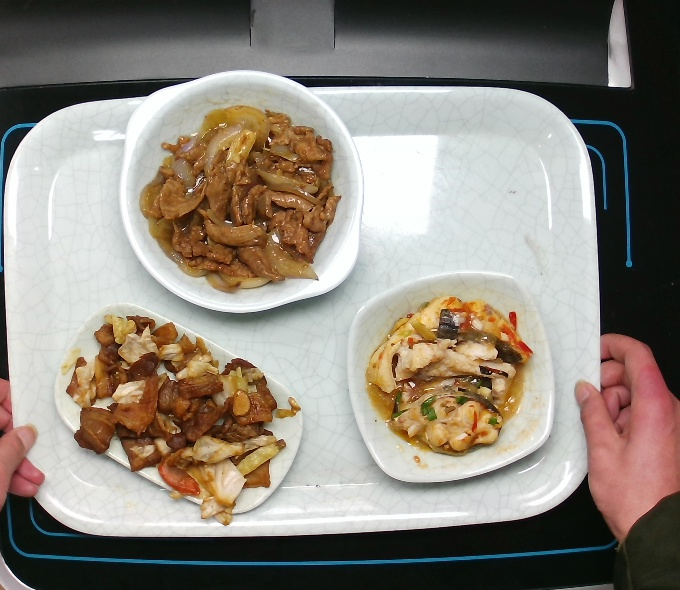wcq-DuoJiaoYuKuai: (366, 293, 531, 454)
wcq-PaoCaiRouPian: (70, 317, 295, 508)
wcq-YangCongRouPian: (138, 107, 341, 294)
